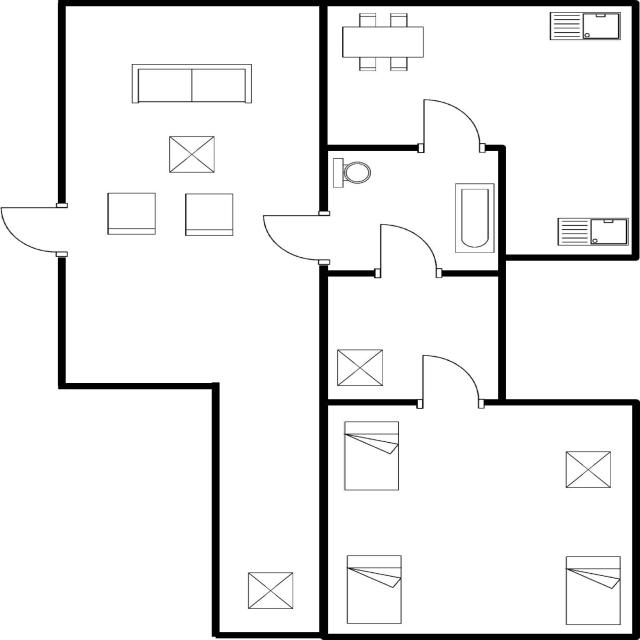bed: (336, 416, 404, 496), (340, 550, 406, 628), (562, 552, 626, 630)
coffee_table: (240, 568, 300, 616), (560, 446, 616, 494), (331, 344, 389, 390), (164, 129, 218, 177)
dining_table: (336, 10, 430, 76)
large_sink: (328, 154, 373, 193)
large_sofa: (126, 59, 259, 109)
sink: (551, 212, 633, 251), (544, 8, 626, 46)
small_sofa: (102, 188, 162, 240), (178, 189, 238, 241)
tub: (450, 175, 498, 258)
